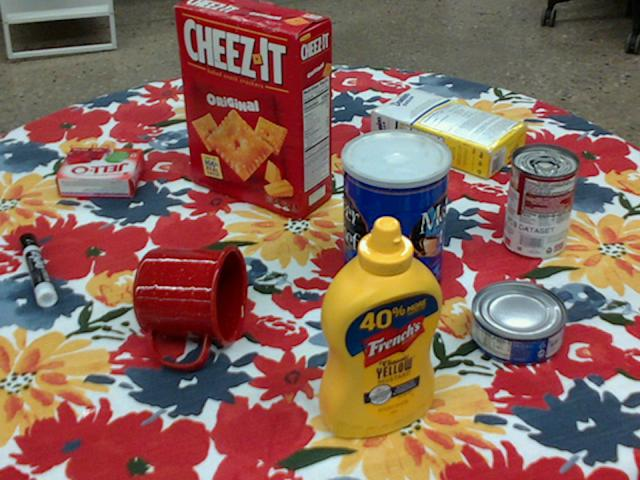cracker_box: (175, 0, 333, 215)
gelatin_box: (55, 148, 144, 197)
large_marker: (18, 232, 55, 306)
master_chef_can: (341, 130, 450, 306)
mug: (132, 245, 246, 369)
mustard_bottle: (318, 217, 440, 438)
potted_meat_can: (186, 51, 267, 132)
sugar_box: (370, 86, 527, 180)
tomato_soup_can: (503, 143, 578, 259)
tuna_fish_can: (468, 282, 565, 366)
